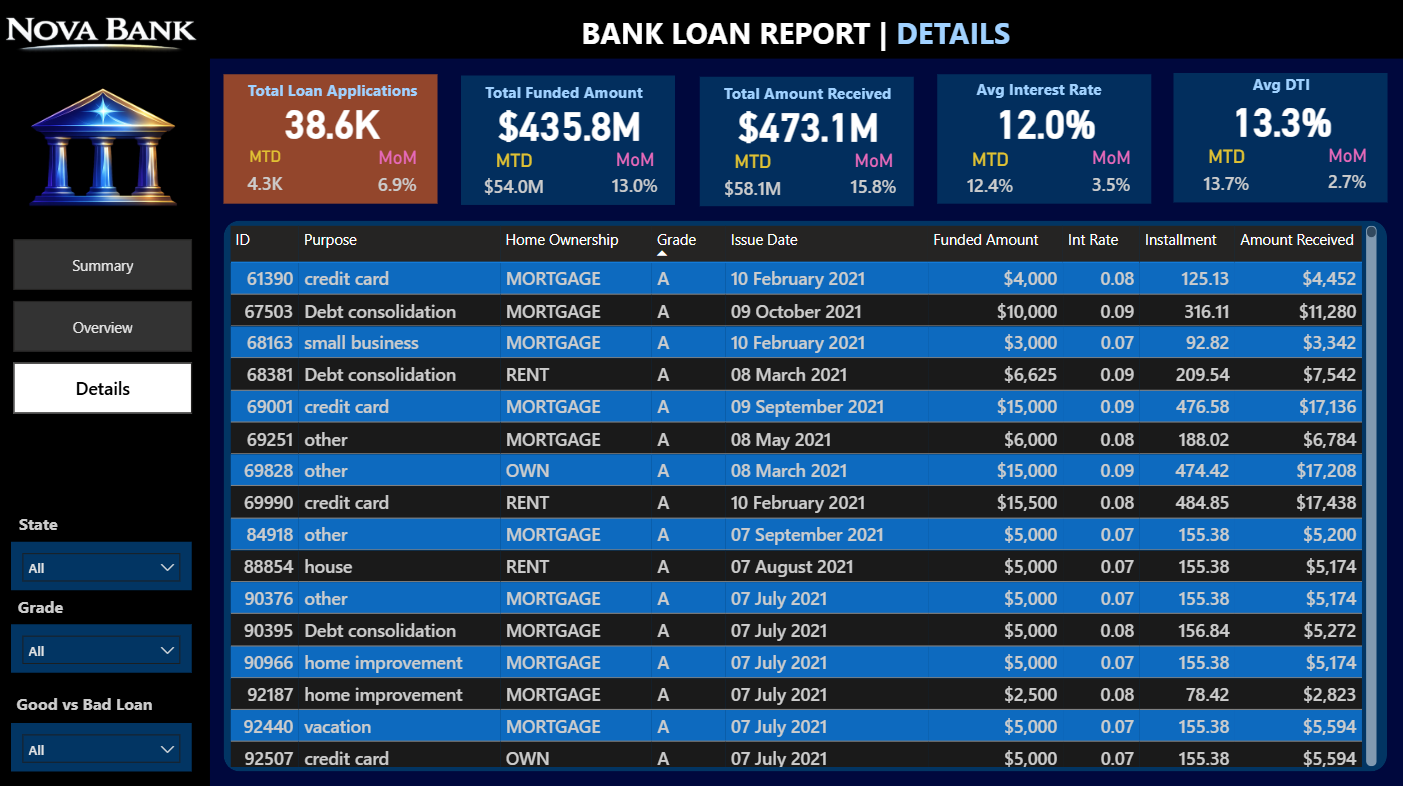

The page's visual inventory and layout, read from the dashboard file:
{"tool":"powerbi","page":{"name":"Details","canvas":[1280,720],"ordinal":2},"visuals":[{"type":"shape","box":[2.3,54.7,191.9,665.1],"z":0},{"type":"shape","box":[0,0,1280.3,55],"z":1000},{"type":"textbox","box":[526.7,8.1,443,46.5],"z":2000},{"type":"shape","box":[1068.6,68.1,194.2,117.4],"z":3000,"group":"g5"},{"type":"group","id":"g1","title":"Group 1","box":[206.5,69.1,194.2,119.3],"z":3000},{"type":"shape","box":[206.5,69.6,194.2,117.4],"z":3000,"group":"g1"},{"type":"shape","box":[854,70.2,194.2,117.4],"z":3000,"group":"g4"},{"type":"shape","box":[422.3,70.3,194.2,117.4],"z":3000,"group":"g2"},{"type":"shape","box":[638.1,71.4,194.2,117.4],"z":3000,"group":"g3"},{"type":"card","fields":{"Values":["bank_loan_data.Avg DTI"]},"box":[1074.9,87.9,183.7,45.3],"z":4000,"group":"g5"},{"type":"card","fields":{"Values":["bank_loan_data.Total Loan Applications"]},"box":[212.8,89.3,183.7,45.3],"z":4000,"group":"g1"},{"type":"card","fields":{"Values":["bank_loan_data.Total Funded Amount"]},"box":[428.6,90,183.7,45.3],"z":4000,"group":"g2"},{"type":"card","fields":{"Values":["bank_loan_data.Avg Interest Rate"]},"box":[860.3,90,183.7,45.3],"z":4000,"group":"g4"},{"type":"card","fields":{"Values":["bank_loan_data.Total Amount Received"]},"box":[644.4,91.1,183.7,45.3],"z":4000,"group":"g3"},{"type":"shape","box":[207,202.3,1055.8,500],"z":4000},{"type":"textbox","box":[1135,64,101.2,29.1],"z":5000,"group":"g5"},{"type":"textbox","box":[884.2,68.6,172.1,31.4],"z":5000,"group":"g4"},{"type":"textbox","box":[223.2,69.1,172.1,31.4],"z":5000,"group":"g1"},{"type":"group","id":"g2","title":"Group 1","box":[422.3,69.8,194.2,120],"z":5000},{"type":"textbox","box":[439,69.8,172.1,31.4],"z":5000,"group":"g2"},{"type":"textbox","box":[654.8,70.9,172.1,31.4],"z":5000,"group":"g3"},{"type":"group","id":"g3","title":"Group 1","box":[638.1,70.9,194.2,119.8],"z":6000},{"type":"card","title":"MTD","fields":{"Values":["bank_loan_data.MTD Avg DTI"]},"box":[1074.9,134.2,82.6,53.5],"z":6000,"group":"g5"},{"type":"card","title":"MTD","fields":{"Values":["bank_loan_data.MTD Loan Applications"]},"box":[212.8,134.9,61.6,53.5],"z":6000,"group":"g1"},{"type":"card","title":"MTD","fields":{"Values":["bank_loan_data.MTD Funded Amount"]},"box":[428.6,136.3,82.6,53.5],"z":6000,"group":"g2"},{"type":"card","title":"MTD","fields":{"Values":["bank_loan_data.MTD Avg Interest Rate"]},"box":[860.3,136.3,82.6,53.5],"z":6000,"group":"g4"},{"type":"card","title":"MTD","fields":{"Values":["bank_loan_data.MTD Amount Received"]},"box":[644.4,137.4,82.6,53.5],"z":6000,"group":"g3"},{"type":"group","id":"g4","title":"Group 2","box":[854,68.6,202.3,121.2],"z":7000},{"type":"card","title":"MoM","fields":{"Values":["bank_loan_data.MoM Avg DTI"]},"box":[1195.8,133.5,61.6,53.5],"z":7000,"group":"g5"},{"type":"card","title":"MoM","fields":{"Values":["bank_loan_data.MoM Loan Application"]},"box":[333.7,134.9,61.6,53.5],"z":7000,"group":"g1"},{"type":"card","title":"MoM","fields":{"Values":["bank_loan_data.MoM Total Funded Amount"]},"box":[549.5,135.6,61.6,53.5],"z":7000,"group":"g2"},{"type":"card","title":"MoM","fields":{"Values":["bank_loan_data.MoM Avg Interest Rate"]},"box":[981.2,135.6,61.6,53.5],"z":7000,"group":"g4"},{"type":"card","title":"MoM","fields":{"Values":["bank_loan_data.MoM Total Amount Received"]},"box":[765.3,136.7,61.6,53.5],"z":7000,"group":"g3"},{"type":"group","id":"g5","title":"Group 2","box":[1068.6,64,194.2,123.3],"z":8000},{"type":"slicer","fields":{"Values":["bank_loan_data.address_state"]},"box":[14,493,164,44.2],"z":9000},{"type":"textbox","box":[16.3,461.6,165.1,31.4],"z":10000},{"type":"slicer","fields":{"Values":["bank_loan_data.grade"]},"box":[14,568.6,164,44.2],"z":11000},{"type":"textbox","box":[15.1,537.2,165.1,31.4],"z":12000},{"type":"slicer","fields":{"Values":["bank_loan_data.Good vs Bad Loan"]},"box":[14,658.1,164,44.2],"z":13000},{"type":"textbox","box":[14,624.4,143,33.7],"z":14000},{"type":"tableEx","fields":{"Values":["bank_loan_data.id","bank_loan_data.purpose","bank_loan_data.home_ownership","bank_loan_data.grade","bank_loan_data.issue_date","bank_loan_data.Total Funded Amount","Sum(bank_loan_data.int_rate)","Sum(bank_loan_data.installment)","bank_loan_data.Total Amount Received"]},"box":[207,202.3,1051.2,500],"z":17000},{"type":"pageNavigator","box":[16.3,218.6,162.8,158.1],"z":18001},{"type":"image","box":[0,38.4,194.2,197.7],"z":18002},{"type":"image","box":[5.8,0,186,64],"z":18003}]}

Visuals, with their boxes in screenshot pixels (x1, y1, x2, y2), scaled from the page's 1280x720 canvas onto the 1403x786 screenshot:
shape: x1=3, y1=60, x2=213, y2=785
shape: x1=0, y1=0, x2=1402, y2=60
textbox: x1=577, y1=9, x2=1063, y2=60
shape: x1=1171, y1=74, x2=1384, y2=203
"Group 1" group: x1=226, y1=75, x2=439, y2=206
shape: x1=226, y1=76, x2=439, y2=204
shape: x1=936, y1=77, x2=1149, y2=205
shape: x1=463, y1=77, x2=676, y2=205
shape: x1=699, y1=78, x2=912, y2=206
card - bank_loan_data.Avg DTI: x1=1178, y1=96, x2=1380, y2=145
card - bank_loan_data.Total Loan Applications: x1=233, y1=97, x2=435, y2=147
card - bank_loan_data.Total Funded Amount: x1=470, y1=98, x2=671, y2=148
card - bank_loan_data.Avg Interest Rate: x1=943, y1=98, x2=1144, y2=148
card - bank_loan_data.Total Amount Received: x1=706, y1=99, x2=908, y2=149
shape: x1=227, y1=221, x2=1384, y2=767
textbox: x1=1244, y1=70, x2=1355, y2=102
textbox: x1=969, y1=75, x2=1158, y2=109
textbox: x1=245, y1=75, x2=433, y2=110
"Group 1" group: x1=463, y1=76, x2=676, y2=207
textbox: x1=481, y1=76, x2=670, y2=110
textbox: x1=718, y1=77, x2=906, y2=112
"Group 1" group: x1=699, y1=77, x2=912, y2=208
"MTD" card: x1=1178, y1=147, x2=1269, y2=205
"MTD" card: x1=233, y1=147, x2=301, y2=206
"MTD" card: x1=470, y1=149, x2=560, y2=207
"MTD" card: x1=943, y1=149, x2=1034, y2=207
"MTD" card: x1=706, y1=150, x2=797, y2=208
"Group 2" group: x1=936, y1=75, x2=1158, y2=207
"MoM" card: x1=1311, y1=146, x2=1378, y2=204
"MoM" card: x1=366, y1=147, x2=433, y2=206
"MoM" card: x1=602, y1=148, x2=670, y2=206
"MoM" card: x1=1075, y1=148, x2=1143, y2=206
"MoM" card: x1=839, y1=149, x2=906, y2=208
"Group 2" group: x1=1171, y1=70, x2=1384, y2=204
slicer - bank_loan_data.address_state: x1=15, y1=538, x2=195, y2=586
textbox: x1=18, y1=504, x2=199, y2=538
slicer - bank_loan_data.grade: x1=15, y1=621, x2=195, y2=669
textbox: x1=17, y1=586, x2=198, y2=621
slicer - bank_loan_data.Good vs Bad Loan: x1=15, y1=718, x2=195, y2=767
textbox: x1=15, y1=682, x2=172, y2=718
tableEx - bank_loan_data.id x bank_loan_data.purpose: x1=227, y1=221, x2=1379, y2=767
pageNavigator: x1=18, y1=239, x2=196, y2=411
image: x1=0, y1=42, x2=213, y2=258
image: x1=6, y1=0, x2=210, y2=70
